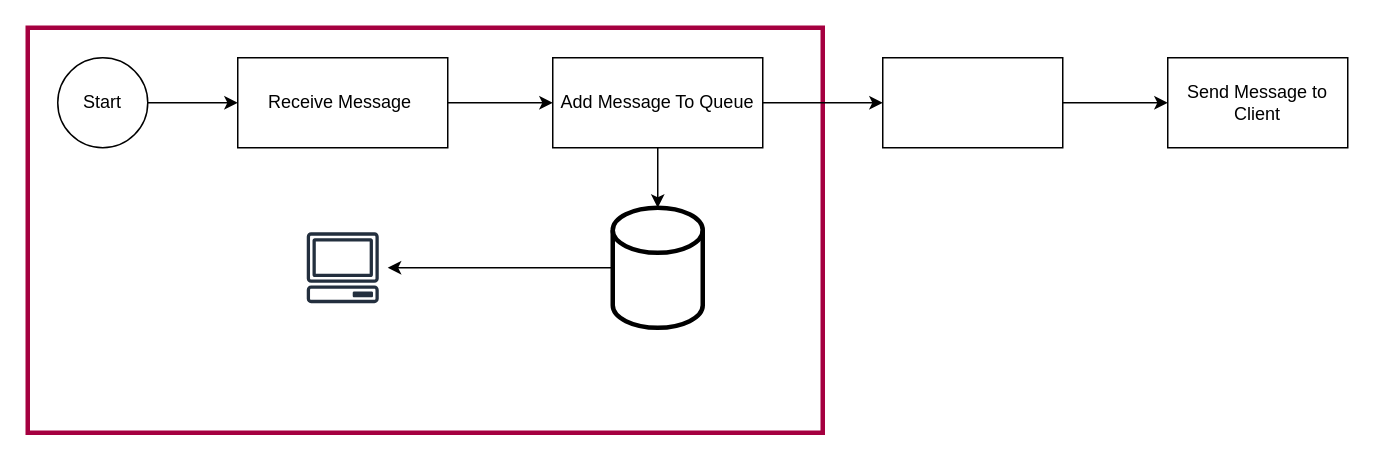
Some shapes in this 1374 by 461 pixel diagram are drawn without their labels. Here are the shapes that lost their labels. From the top down, the centre of each, then its label:
At (x=972, y=102): "Pick a Available Client Worker to assign the message".
At (x=342, y=267): "FRONT".
